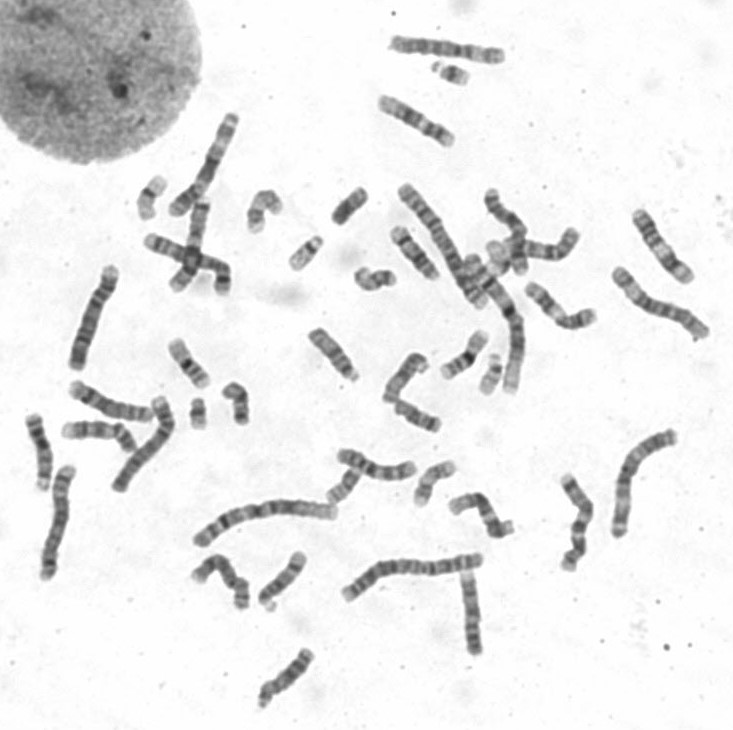chromosomes: (394, 180, 490, 314), (608, 418, 694, 547), (466, 250, 537, 400), (162, 105, 249, 221), (607, 261, 719, 349), (189, 496, 345, 553), (338, 547, 486, 606), (620, 191, 704, 291), (107, 394, 181, 500), (62, 258, 127, 376), (140, 229, 237, 302), (368, 22, 520, 68), (371, 88, 464, 154), (483, 222, 588, 280), (32, 460, 79, 587), (164, 195, 220, 301), (65, 372, 159, 431), (250, 642, 322, 718), (516, 281, 609, 339), (479, 185, 534, 280), (255, 541, 317, 624), (183, 549, 257, 614), (559, 465, 598, 584), (446, 493, 530, 545), (332, 440, 424, 487), (382, 221, 446, 288), (299, 321, 365, 385), (20, 408, 58, 499), (380, 348, 436, 409), (57, 417, 144, 455), (436, 325, 494, 381), (408, 454, 463, 511), (163, 333, 215, 393), (457, 567, 489, 659), (323, 180, 376, 232), (243, 185, 292, 238), (392, 397, 447, 444), (134, 171, 175, 231), (322, 461, 368, 513), (425, 57, 480, 100), (283, 229, 328, 276), (218, 378, 255, 431), (346, 262, 405, 295), (473, 353, 508, 403), (182, 392, 215, 435), (483, 239, 515, 268)
